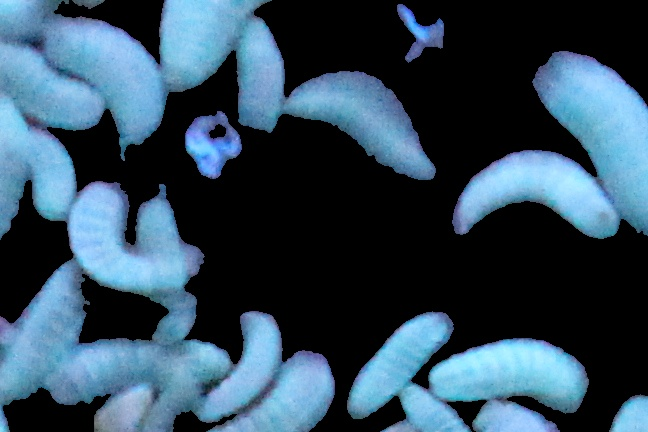larvae: (271, 63, 445, 202), (528, 44, 648, 232), (30, 17, 173, 153), (157, 1, 367, 84), (337, 297, 460, 428), (435, 148, 629, 231), (421, 331, 594, 412), (60, 179, 180, 287), (1, 261, 85, 410), (193, 300, 288, 425), (50, 339, 231, 394), (1, 44, 100, 134), (246, 341, 338, 432), (1, 85, 32, 281), (21, 122, 81, 215), (388, 383, 469, 432)
